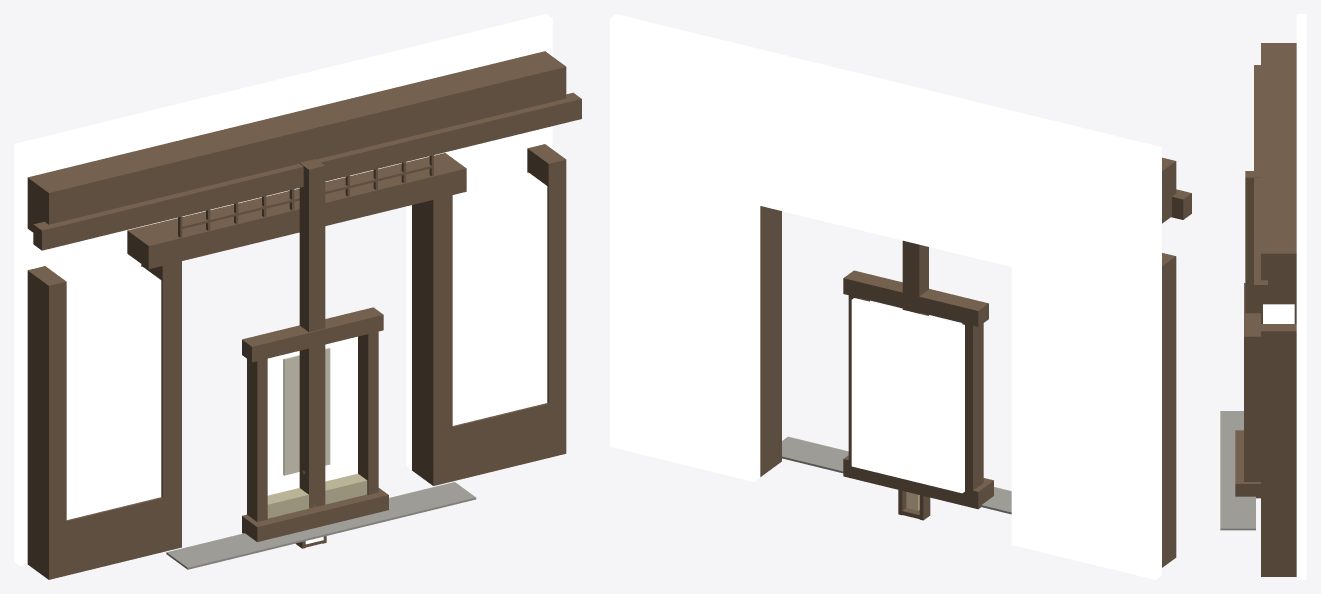
The model's file is japan.glb.
3 views of the same model, side by side, from view 1: azimuth 30°, elevation 25°; view 2: azimuth 150°, elevation 25°; view 3: azimuth 270°, elevation 25° (orthographic). The views are drawn at different scales.
Parts seen in each view (by area): view 1: Wood_beamtop, Shoji_shoulder, Shoji_shoulder.001, Shoji_backL, Wood_beam, Wood_lintel, Wood_cornerpost, Wood_post.001, Shoji_backR, Shoji_backHdr, Wood_post.002, Wood_wainscot (+12 smaller); view 2: Shoji_backL, Shoji_backR, Shoji_backHdr, Shoji_tokoBack, Wood_post.001, Wood_cornerpost, Wood_tokoLintel, Wood_tokoPost, Wood_tokoBase, Stone_step, Wood_post.002, Wood_wainscot.001 (+1 smaller); view 3: Wood_cornerpost.001, Wood_beamtop, Shoji_backR, Stone_step, Wood_tokoPost.001, Wood_beam, Wood_post.002, Wood_wainscot.001, Shoji_backHdr, Wood_tokoBase, Wood_tokoLintel, Shoji_shoulder.001 (+3 smaller).
Part boxes in pixels (x1,y1,x2,y2): Wood_beamtop: (27,51,566,224); Shoji_shoulder: (66,266,161,519); Shoji_shoulder.001: (452,172,547,425); Shoji_backL: (14,109,160,565); Wood_beam: (33,92,581,250); Wood_lintel: (127,153,466,269); Wood_cornerpost: (27,266,66,579); Wood_post.001: (412,187,452,485); Shoji_backR: (406,14,552,469); Shoji_backHdr: (155,48,411,221); Wood_post.002: (299,159,325,508); Wood_wainscot: (27,493,181,579); Shoji_backL: (1011,112,1161,579); Shoji_backR: (610,14,760,481); Shoji_backHdr: (754,49,1017,266); Shoji_tokoBack: (851,298,964,493); Wood_post.001: (760,206,781,476); Wood_cornerpost: (1162,253,1176,567); Wood_tokoLintel: (843,270,988,326); Wood_tokoPost: (962,317,983,507); Wood_tokoBase: (843,455,993,509); Stone_step: (782,436,1011,514); Wood_post.002: (902,240,928,494); Wood_wainscot.001: (760,406,781,475); Wood_cornerpost.001: (1261,324,1296,576); Wood_beamtop: (1261,43,1296,282); Shoji_backR: (1296,173,1306,579); Stone_step: (1220,411,1255,530); Wood_tokoPost.001: (1244,349,1260,481); Wood_beam: (1254,65,1267,301); Wood_post.002: (1245,171,1260,313); Wood_wainscot.001: (1261,531,1296,576); Shoji_backHdr: (1296,71,1306,173); Wood_tokoBase: (1235,430,1260,498); Wood_tokoLintel: (1244,283,1260,349); Shoji_shoulder.001: (1263,304,1294,323).
Size of the model in its own units: 7.3 by 5.71 by 1.21.
